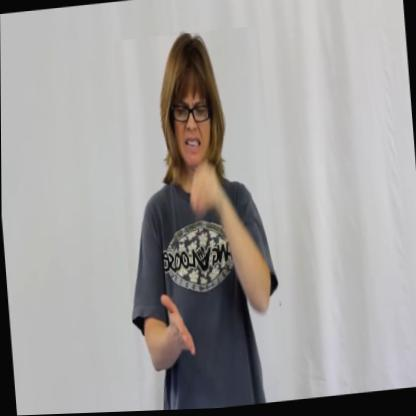Expensive: (110, 27, 286, 413)
